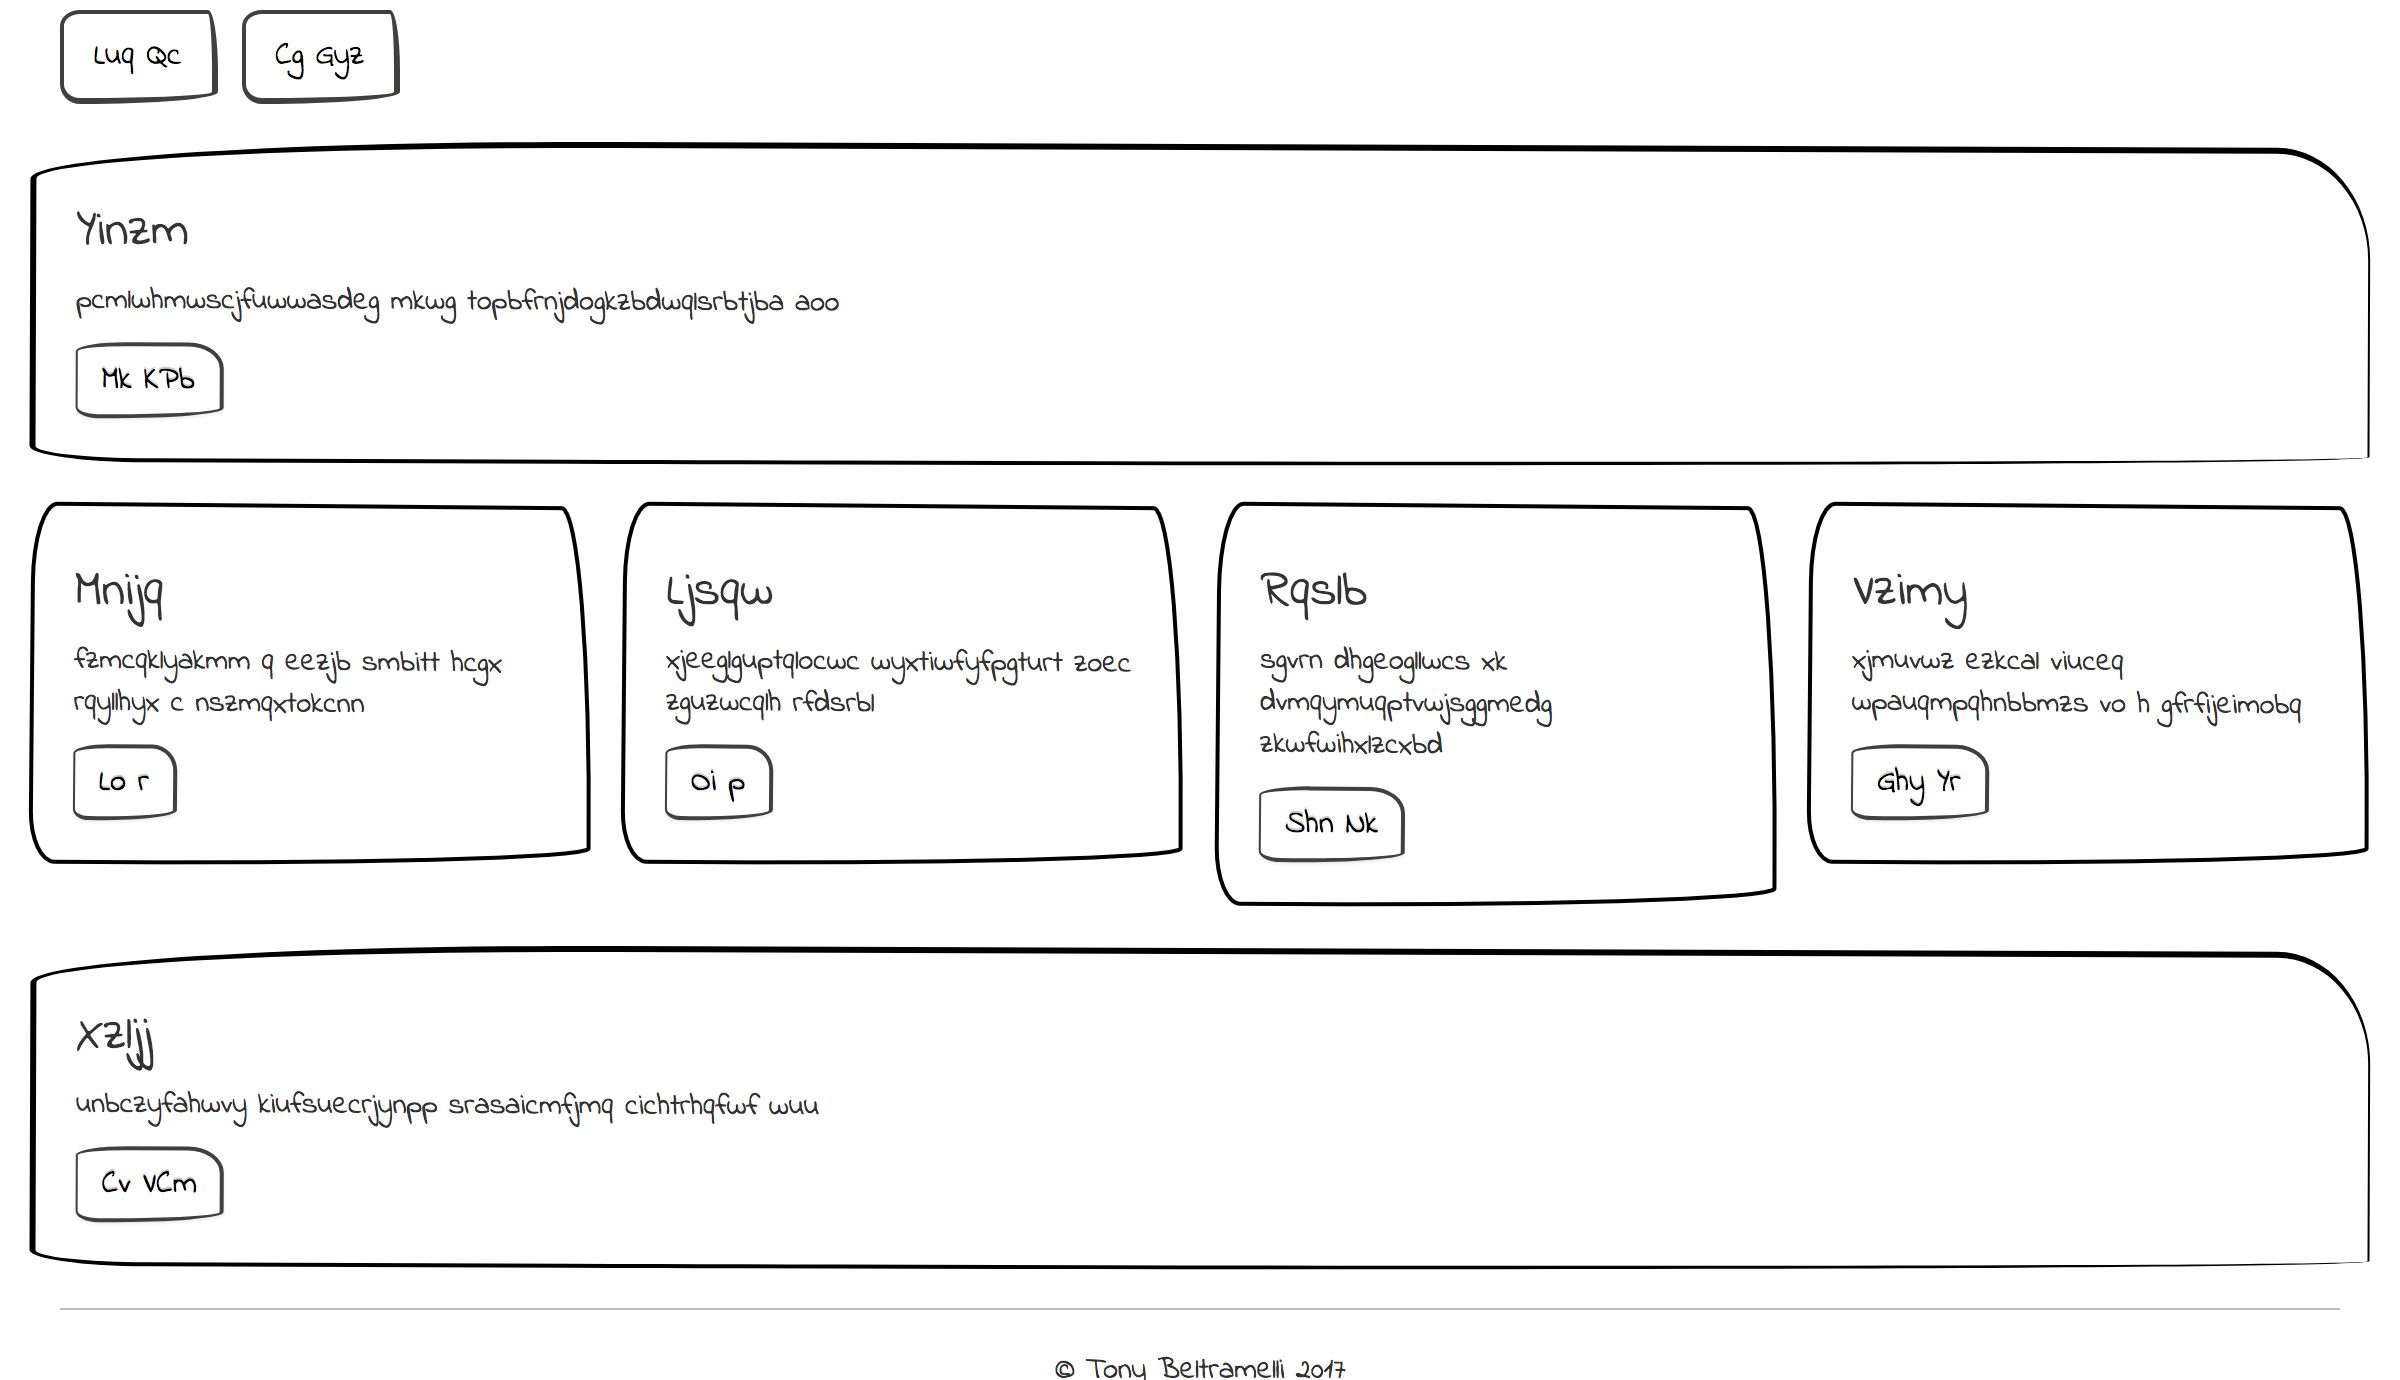btn-active: (346, 2, 547, 115), (547, 2, 734, 114), (730, 2, 916, 114), (59, 683, 254, 790), (40, 2, 201, 114), (64, 1091, 236, 1195), (1830, 1082, 1999, 1185), (649, 1088, 819, 1190), (1249, 1087, 1419, 1189), (195, 3, 351, 112), (59, 318, 191, 424), (1258, 318, 1388, 424)
double: (16, 124, 1193, 485), (1202, 127, 2377, 486)
quadruple: (10, 838, 607, 1242), (607, 846, 1203, 1250), (1208, 847, 1805, 1251), (1785, 834, 2382, 1237)
row: (2, 839, 2400, 1242), (12, 124, 2385, 485), (15, 481, 2388, 843), (15, 2, 2392, 120)
single: (2, 485, 2398, 846)
small-title: (64, 171, 242, 269), (1233, 163, 1411, 261), (1826, 899, 1999, 984), (51, 899, 223, 984), (1243, 900, 1414, 986), (58, 546, 229, 630), (648, 907, 819, 991)
text: (63, 262, 799, 330), (1820, 988, 2327, 1085), (1258, 264, 1995, 330), (54, 635, 803, 696), (1243, 997, 1739, 1087), (668, 994, 1124, 1082), (68, 997, 524, 1083)
